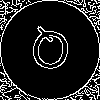Q: (25, 25, 74, 81)
